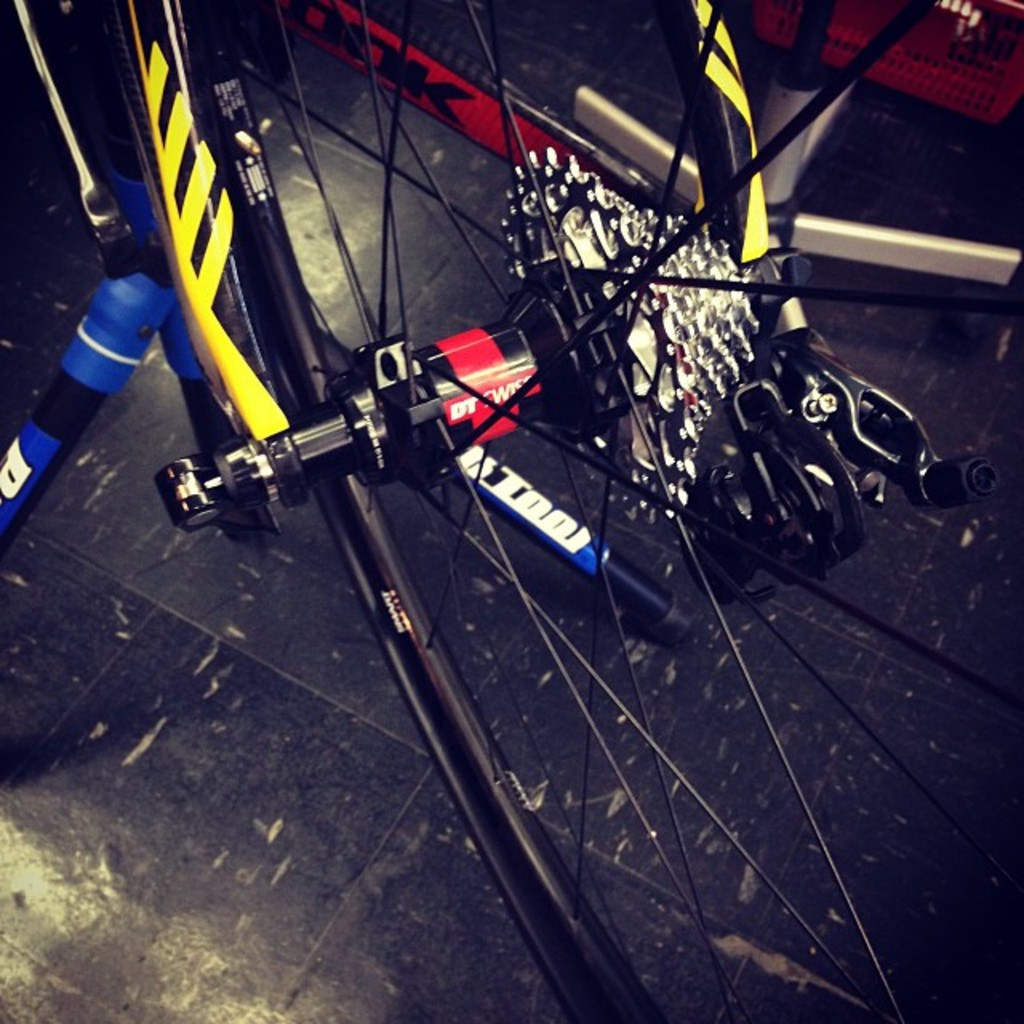Wheel: (176, 0, 1022, 1022)
